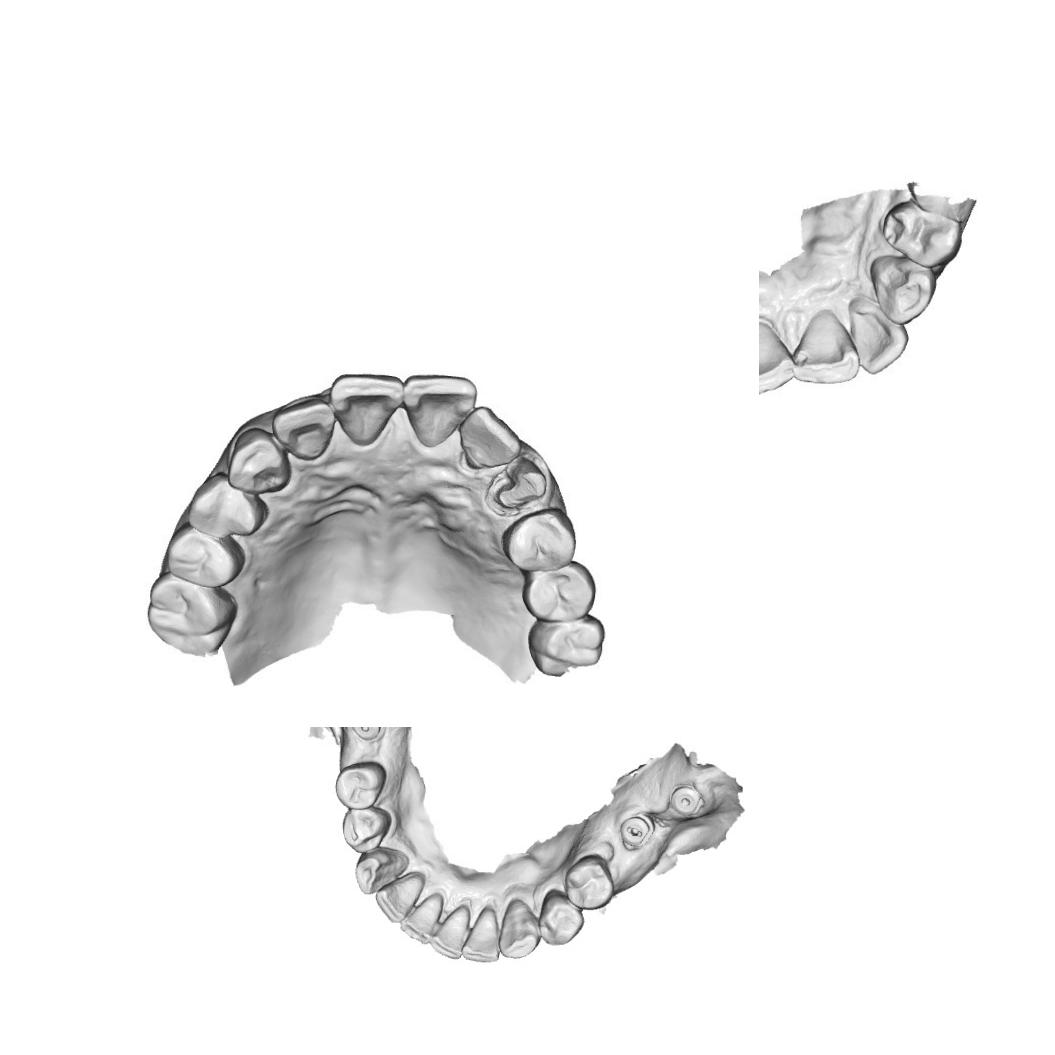canine: (868, 255, 938, 328), (228, 424, 290, 496), (353, 844, 413, 897), (498, 897, 540, 960)
crown: (488, 455, 547, 517)
implant: (667, 784, 705, 820), (346, 727, 386, 743)
implant_minus: (617, 814, 657, 849)
incisor: (334, 370, 407, 452), (789, 305, 860, 387), (404, 373, 476, 450), (844, 296, 910, 376), (455, 404, 524, 480), (272, 398, 338, 462), (759, 317, 796, 399), (372, 870, 426, 924), (426, 902, 470, 960), (398, 892, 444, 946), (460, 905, 501, 964)
molar: (146, 574, 240, 662), (528, 611, 607, 685), (528, 558, 600, 629), (166, 527, 246, 588)
premolar: (880, 200, 965, 270), (186, 470, 266, 538), (504, 506, 576, 575), (561, 855, 615, 911), (332, 758, 388, 811), (538, 888, 586, 947), (340, 804, 392, 854)
